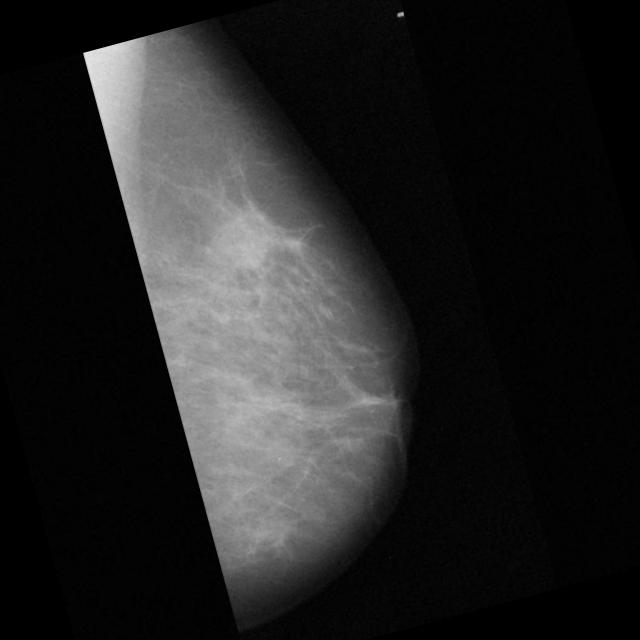ASYM: (210, 210, 274, 276)
